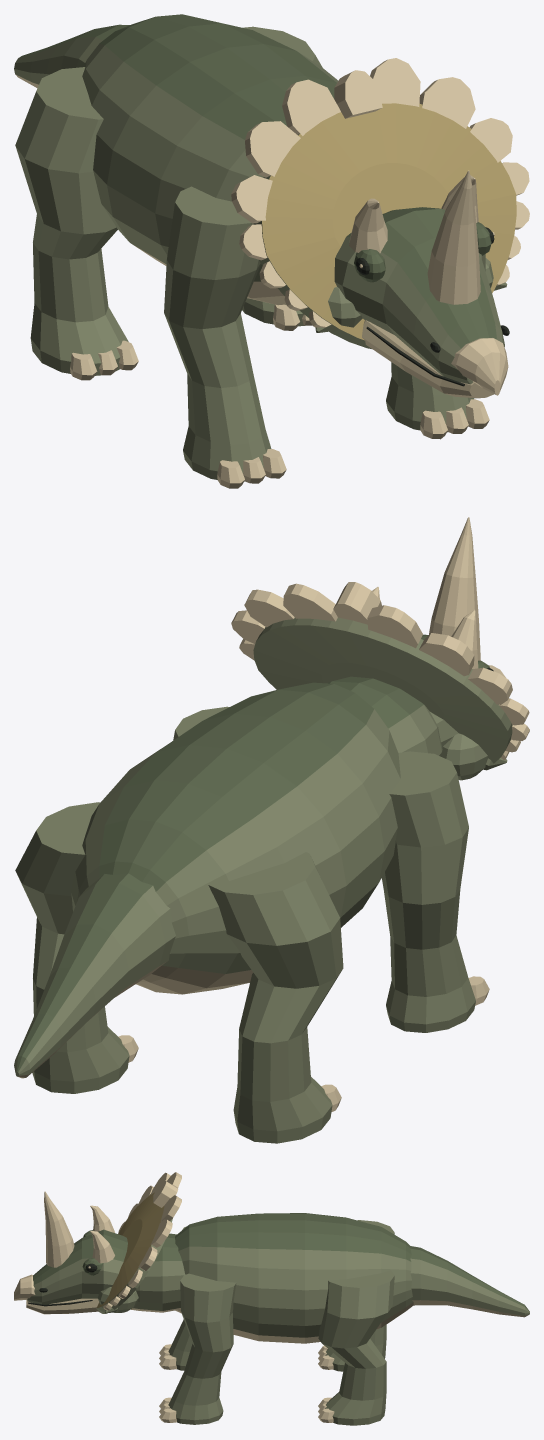
3 views of the same model, one above another, from view 1: azimuth 30°, elevation 25°; view 2: azimuth 150°, elevation 25°; view 3: azimuth 270°, elevation 25° (orthographic). The views are drawn at different scales.
Parts seen in each view (by area): view 1: Regaliceratops_render_mesh; view 2: Regaliceratops_render_mesh; view 3: Regaliceratops_render_mesh.
Boxes of the visible parts, <box> form: Regaliceratops_render_mesh: <box>14,14,529,488</box>; Regaliceratops_render_mesh: <box>14,517,529,1143</box>; Regaliceratops_render_mesh: <box>14,1172,529,1425</box>.
Bounding box in the file's own units: 1.84 × 2.22 × 5.
